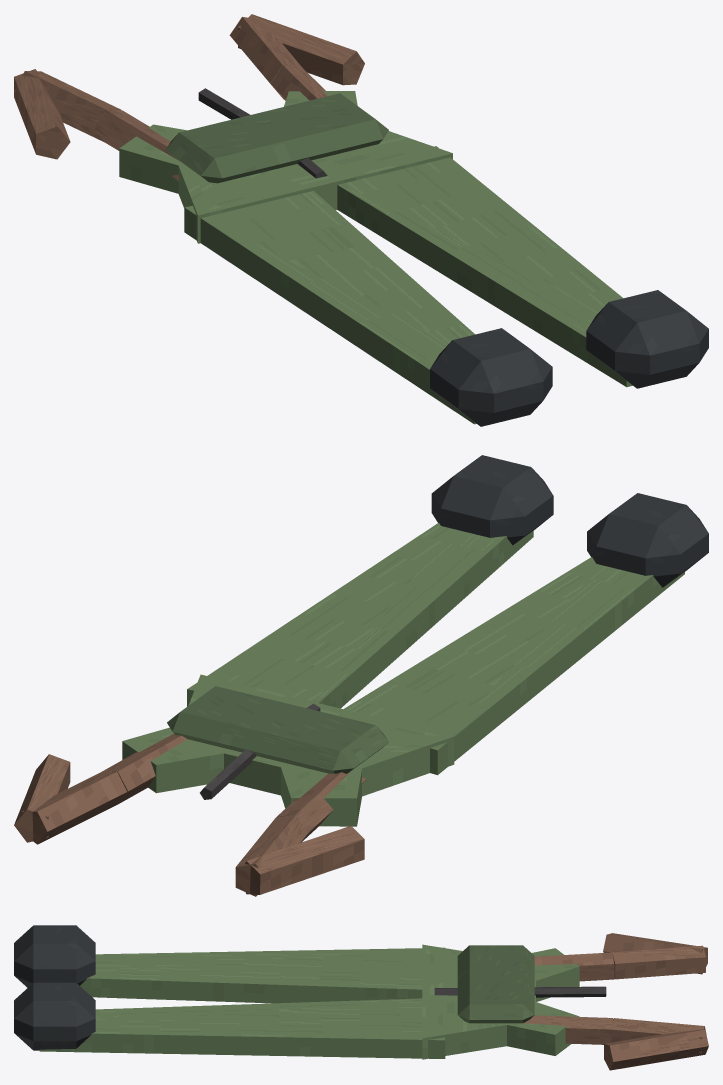
The model's file is fishing_waders.glb.
3 views of the same model, one above another, from view 1: azimuth 30°, elevation 25°; view 2: azimuth 150°, elevation 25°; view 3: azimuth 270°, elevation 25° (orthographic). The views are drawn at different scales.
Visible parts, largest first — view 1: block_integral trouser leg (×2), block_rubber wader boot (×2), block_suit torso, block_large chest pocket, block_suspender 2 (×2), block_suspender 1 (×2), block_suspender 0 (×2), block_sealed front zipper 0; view 2: block_integral trouser leg (×2), block_rubber wader boot (×2), block_suit torso, block_large chest pocket, block_suspender 2 (×2), block_suspender 1 (×2), block_suspender 0 (×2), block_sealed front zipper 0; view 3: block_integral trouser leg (×2), block_rubber wader boot (×2), block_suit torso, block_large chest pocket, block_suspender 2 (×2), block_suspender 1 (×2), block_suspender 0 (×2), block_sealed front zipper 0.
Boxes of the visible parts, bbox=[...] form: block_integral trouser leg (×2): bbox=[184, 146, 632, 424]; block_rubber wader boot (×2): bbox=[430, 290, 708, 426]; block_suit torso: bbox=[119, 91, 452, 243]; block_large chest pocket: bbox=[166, 93, 388, 183]; block_suspender 2 (×2): bbox=[14, 14, 364, 159]; block_suspender 1 (×2): bbox=[15, 17, 302, 142]; block_suspender 0 (×2): bbox=[94, 65, 327, 180]; block_sealed front zipper 0: bbox=[198, 88, 249, 119]; block_integral trouser leg (×2): bbox=[187, 522, 684, 775]; block_rubber wader boot (×2): bbox=[431, 455, 708, 587]; block_suit torso: bbox=[122, 674, 454, 826]; block_large chest pocket: bbox=[167, 686, 388, 773]; block_suspender 2 (×2): bbox=[14, 754, 364, 894]; block_suspender 1 (×2): bbox=[21, 771, 307, 896]; block_suspender 0 (×2): bbox=[101, 734, 366, 842]; block_sealed front zipper 0: bbox=[200, 749, 256, 799]; block_integral trouser leg (×2): bbox=[39, 947, 445, 1058]; block_rubber wader boot (×2): bbox=[14, 925, 95, 1050]; block_suit torso: bbox=[422, 944, 579, 1059]; block_large chest pocket: bbox=[457, 945, 534, 1023]; block_suspender 2 (×2): bbox=[603, 933, 708, 1070]; block_suspender 1 (×2): bbox=[611, 945, 706, 1052]; block_suspender 0 (×2): bbox=[523, 952, 614, 1044]; block_sealed front zipper 0: bbox=[534, 986, 606, 997].
Bounding box in the file's own units: 0.4736 × 0.0916 × 1.15.
Materials: 1 (1 with a texture image).
